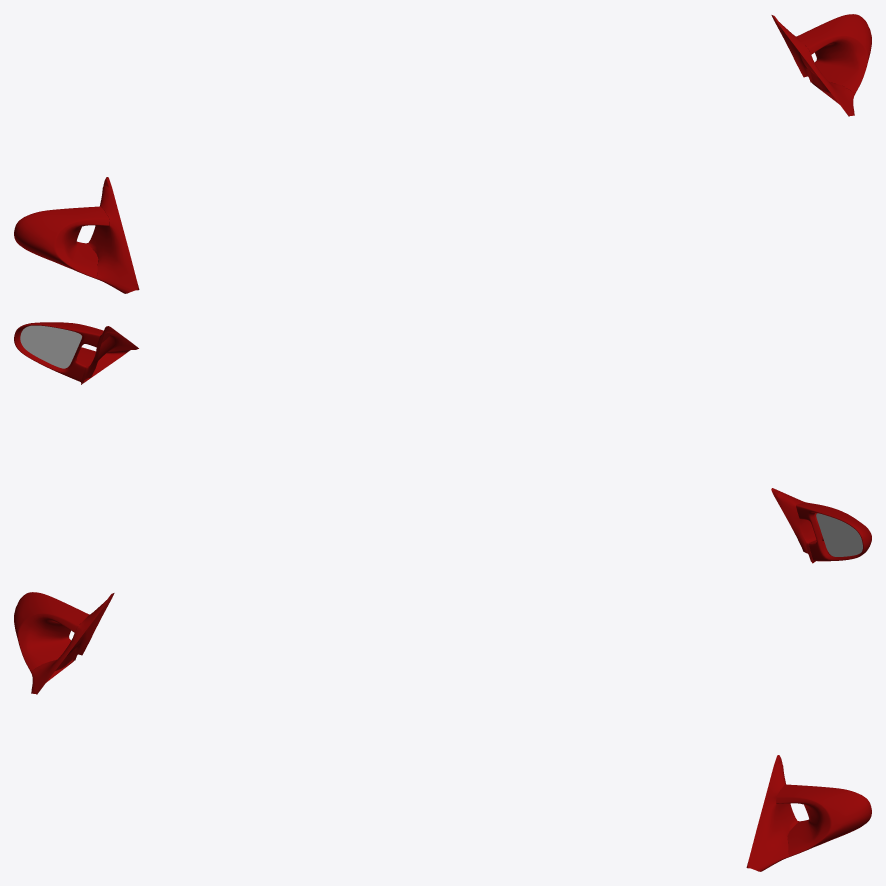
File: mirrors_oemkouki.glb
The picture shows the model from 3 angles, top to bottom: view 1: azimuth 30°, elevation 25°; view 2: azimuth 150°, elevation 25°; view 3: azimuth 330°, elevation 25°; orthographic projection.
Parts seen in each view (by area): view 1: Mirrors; view 2: Mirrors, Glass; view 3: Mirrors.
Boxes of the visible parts, x1,y1,x2,y2 form: Mirrors: (14, 14, 871, 293); Mirrors: (14, 322, 871, 563); Glass: (20, 325, 862, 556); Mirrors: (14, 592, 871, 871).
Size of the model in its own units: 1.81 by 0.1482 by 0.2045.
